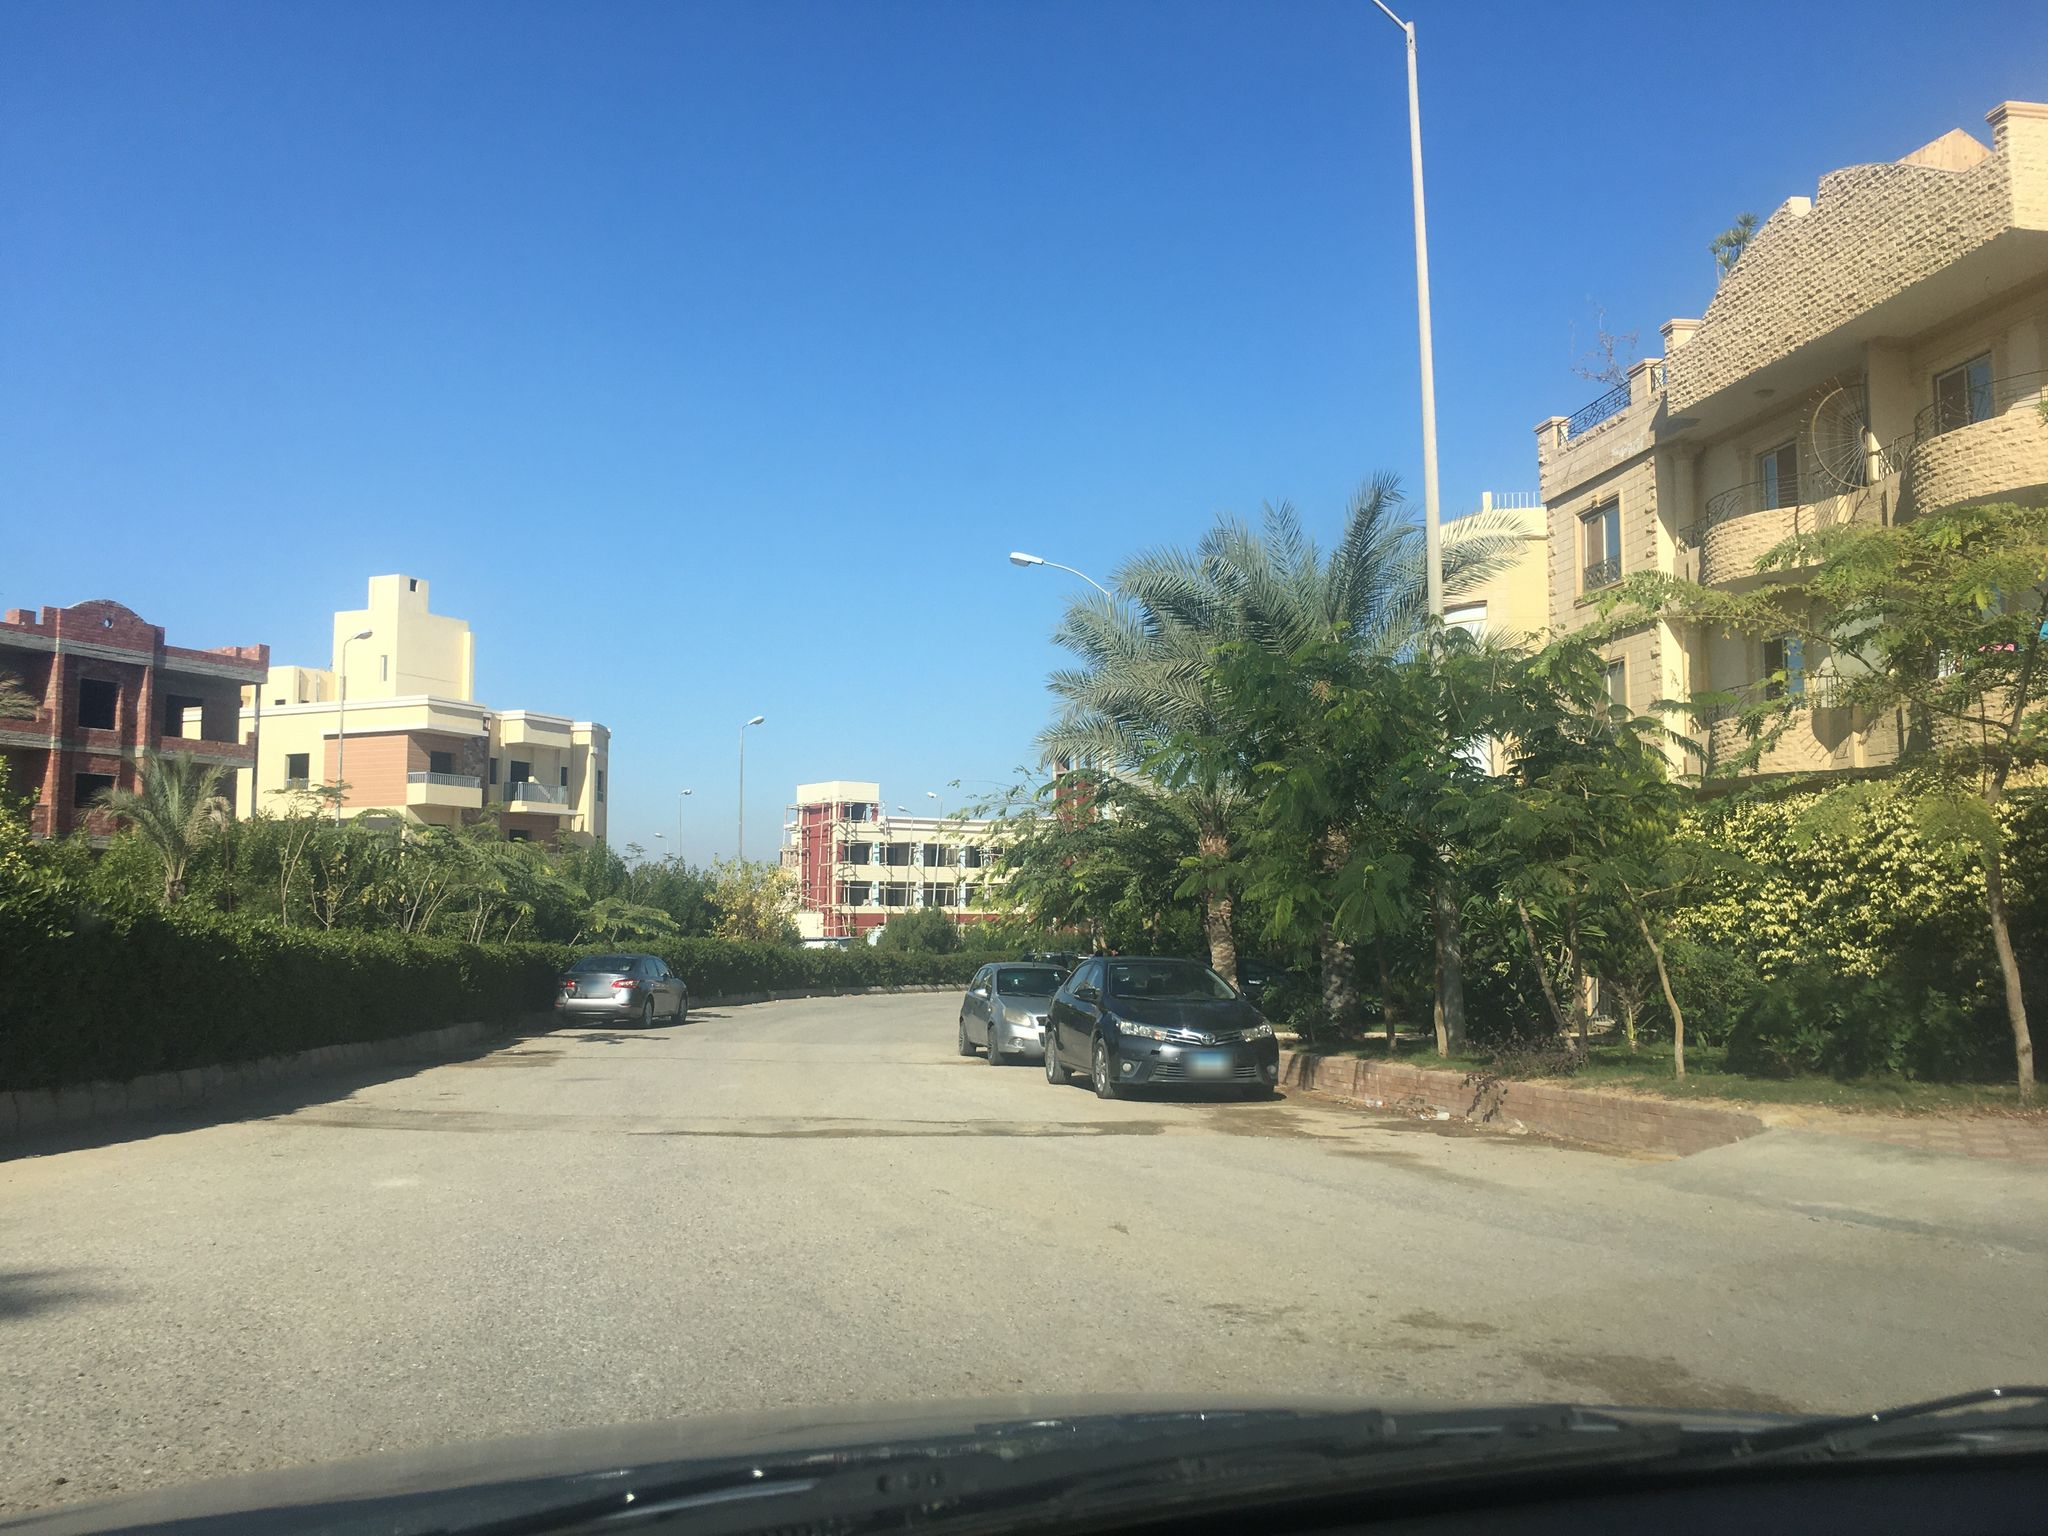car: (1043, 952, 1280, 1099), (956, 958, 1071, 1068), (552, 952, 689, 1028)
